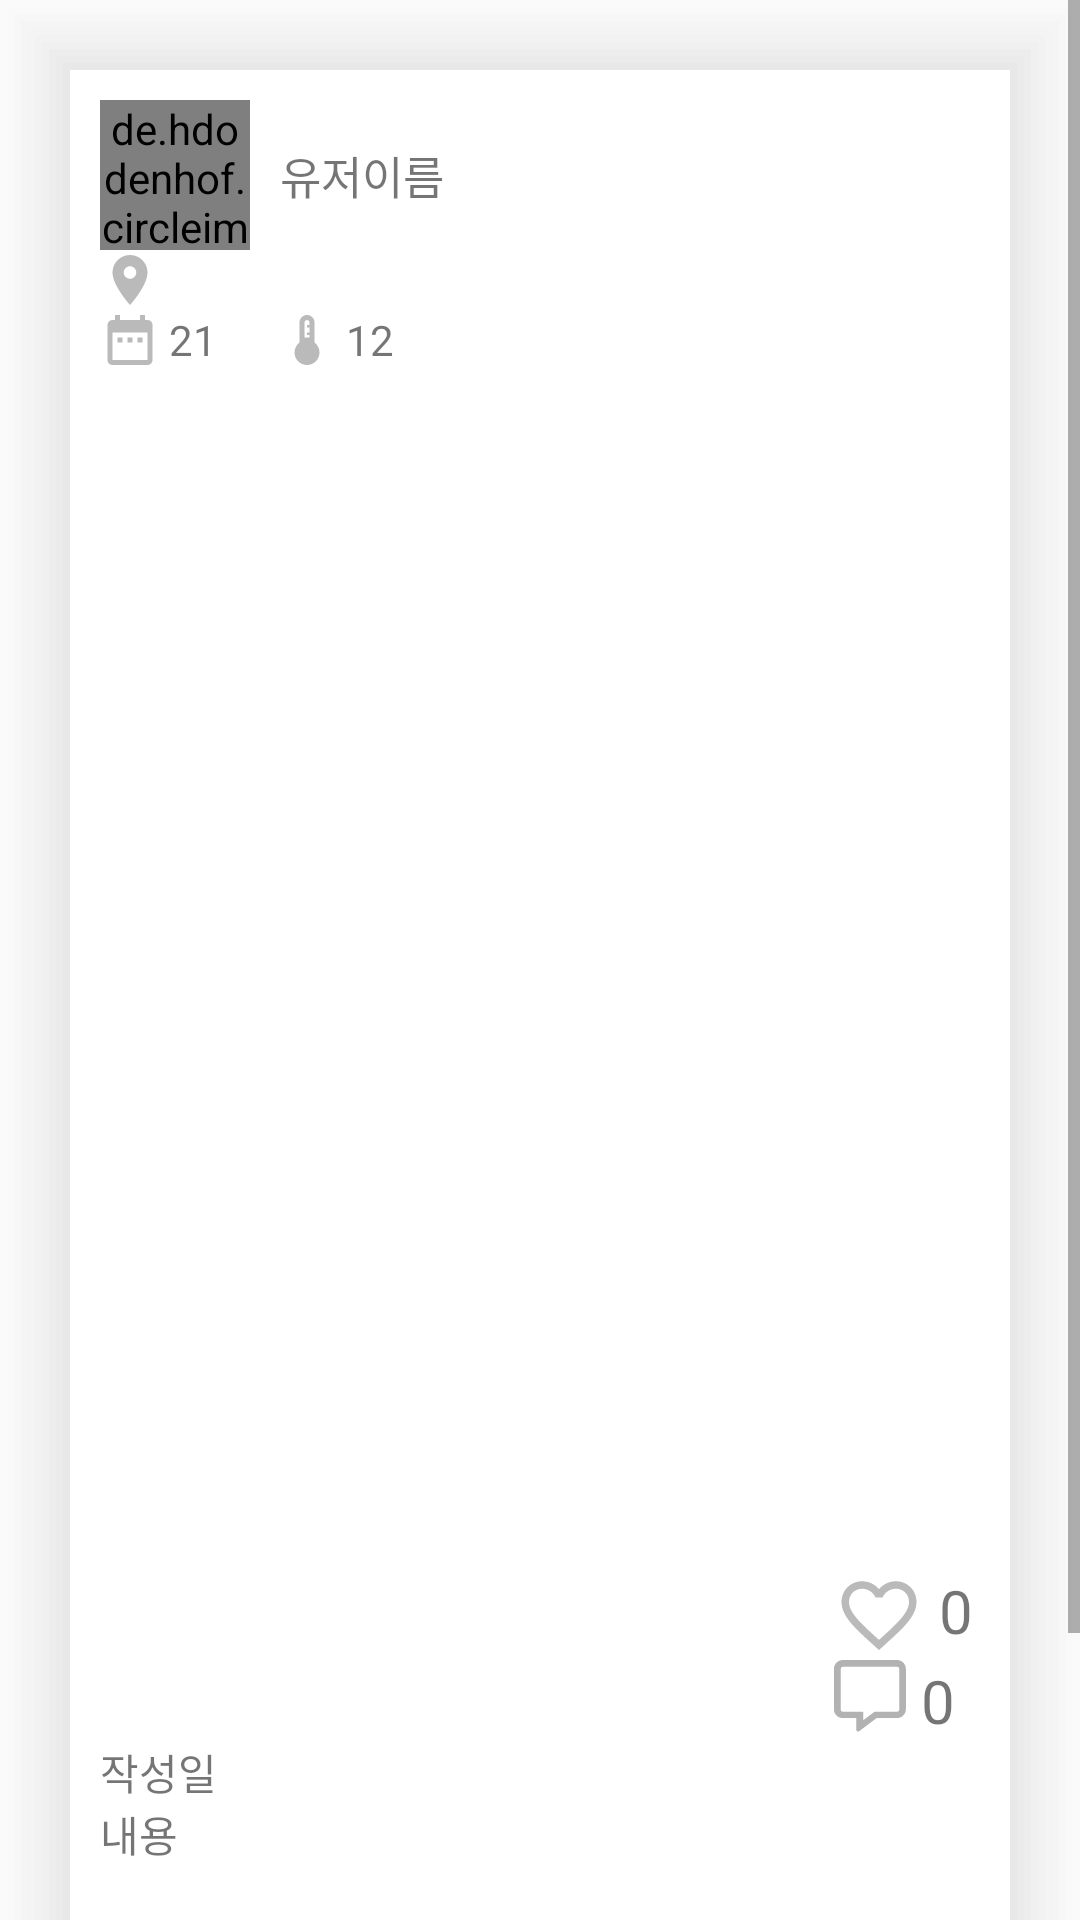

Screen size 1080 × 1920. Icon name, then its center in pixels as [x,y]:
date range: [130,340]
device thermostat: [307,340]
favorite border: [879,1615]
location on: [130,280]
message: [870,1696]
